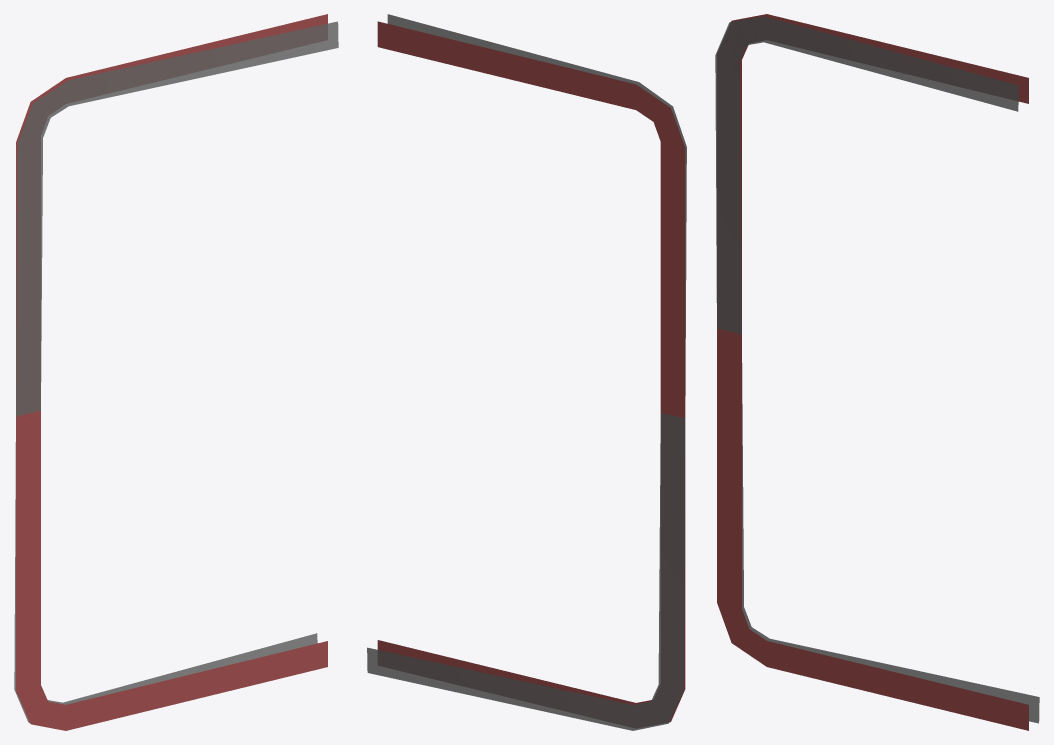
The model's file is warping-cold-formed-u-100-50-4-8-3-363.glb.
The picture shows the model from 3 angles, left to right: view 1: azimuth 30°, elevation 25°; view 2: azimuth 150°, elevation 25°; view 3: azimuth 330°, elevation 25°; orthographic projection.
Parts seen in each view (by area): view 1: undeformed cross-section, cross-section with warping; view 2: undeformed cross-section, cross-section with warping; view 3: undeformed cross-section, cross-section with warping.
Part boxes in pixels (x1,y1,x2,y2): undeformed cross-section: (16,14,327,730); cross-section with warping: (14,21,338,722); undeformed cross-section: (377,21,685,726); cross-section with warping: (367,14,686,730); undeformed cross-section: (717,14,1028,730); cross-section with warping: (715,16,1039,723).
Size of the model in its own units: 0.05 by 0.1 by 0.00589.
